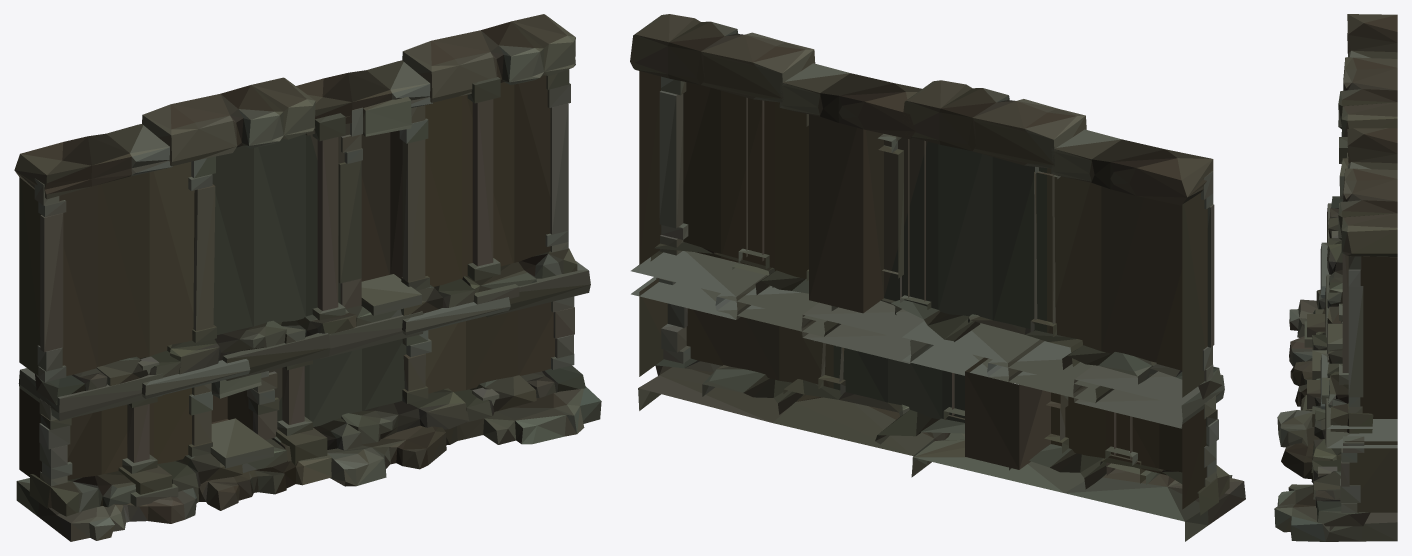
File: wall_B_10m.fbx
The picture shows the model from 3 angles, left to right: view 1: azimuth 30°, elevation 25°; view 2: azimuth 150°, elevation 25°; view 3: azimuth 270°, elevation 25°; orthographic projection. The views are drawn at different scales.
Parts seen in each view (by area): view 1: wall_B_10m; view 2: wall_B_10m; view 3: wall_B_10m.
Boxes of the visible parts, <box> form: wall_B_10m: <box>14,14,601,541</box>; wall_B_10m: <box>630,14,1245,541</box>; wall_B_10m: <box>1274,14,1397,541</box>.
Size of the model in its own units: 10.28 by 6.63 by 2.34.
